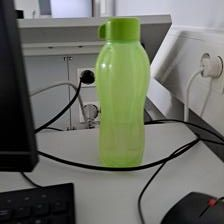bottle: (91, 17, 152, 174)
